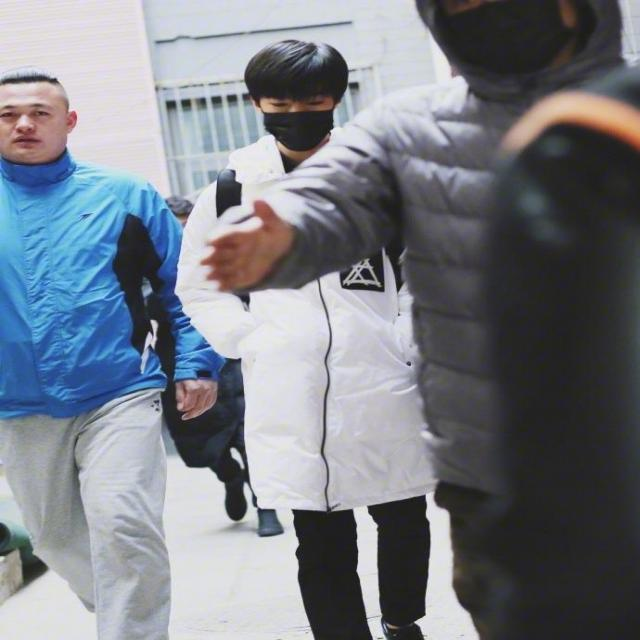mask: (418, 1, 576, 79), (258, 74, 334, 151)
nomask: (0, 84, 64, 162)
